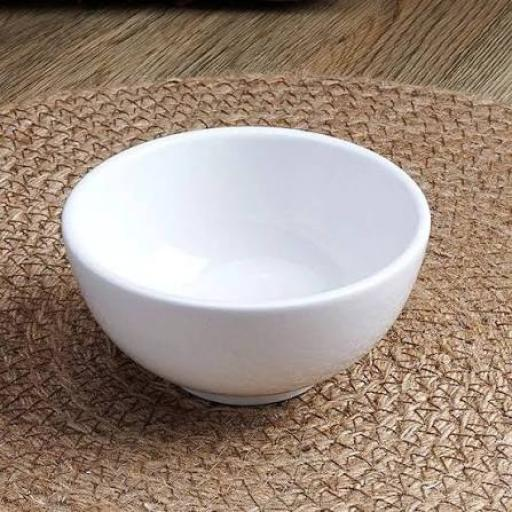Bowl: (63, 128, 427, 403)
